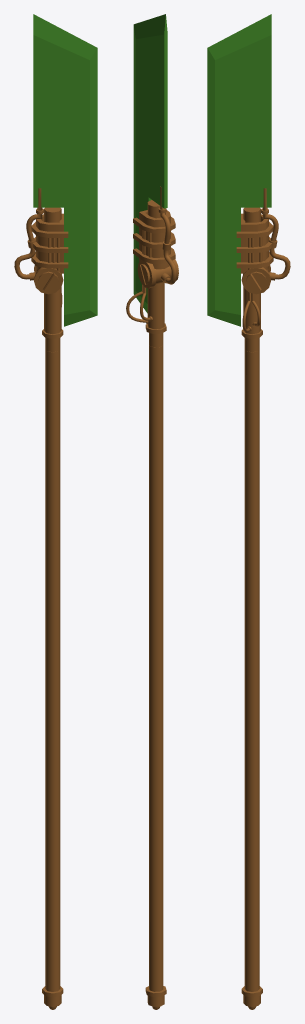
File: Fusion_Lance.fbx
3 renders of one model, left to right at view 1: azimuth 90°, elevation 25°; view 2: azimuth 210°, elevation 25°; view 3: azimuth 270°, elevation 25°, orthographic.
Parts seen in each view (by area): view 1: FusionLance_Blade, FusionLance_Pole_DOWN, FusionLance_Pole_UP; view 2: FusionLance_Pole_DOWN, FusionLance_Blade, FusionLance_Pole_UP; view 3: FusionLance_Blade, FusionLance_Pole_DOWN, FusionLance_Pole_UP.
Part boxes in pixels (x1,y1,x2,y2): FusionLance_Blade: (33,14,97,326); FusionLance_Pole_DOWN: (42,349,63,1009); FusionLance_Pole_UP: (14,188,68,352); FusionLance_Pole_DOWN: (145,344,166,1009); FusionLance_Blade: (133,14,167,313); FusionLance_Pole_UP: (126,186,178,347); FusionLance_Blade: (207,14,271,326); FusionLance_Pole_DOWN: (241,349,262,1009); FusionLance_Pole_UP: (236,188,290,352).
Bounding box in the file's own units: 10.79 × 251 × 18.97.
